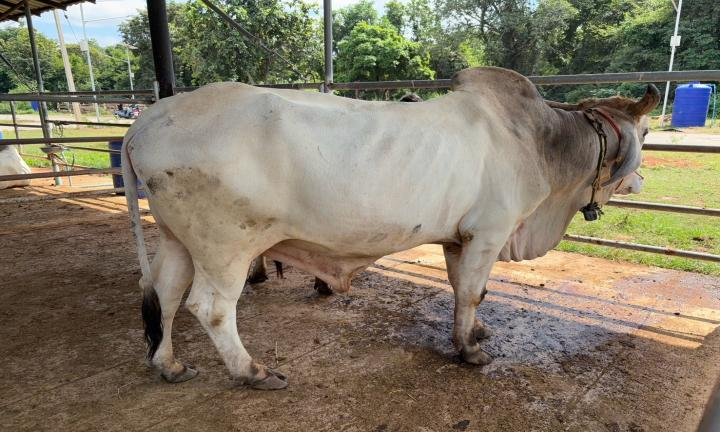Brahman: (122, 67, 659, 389)
